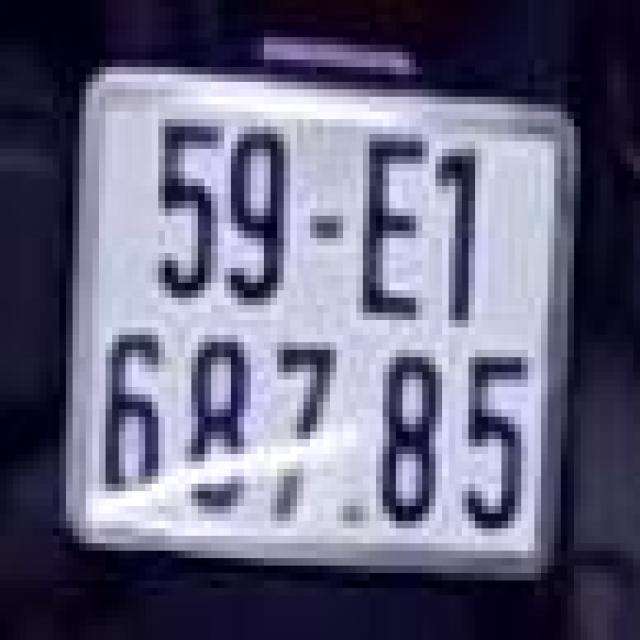1: (432, 134, 505, 335)
5: (142, 100, 221, 309), (462, 342, 541, 544)
6: (89, 328, 175, 514)
7: (260, 327, 340, 536)
8: (366, 338, 459, 540), (181, 320, 254, 521)
9: (214, 97, 300, 320)
E: (347, 111, 432, 328)
